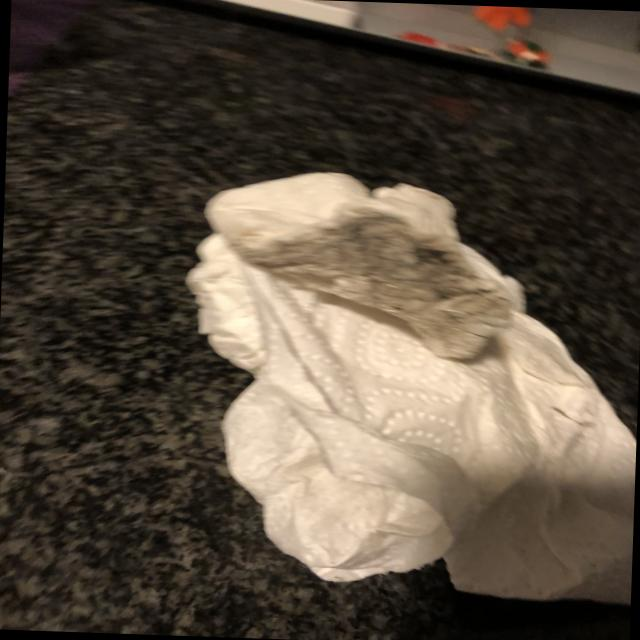organic waste: (169, 163, 640, 607)
